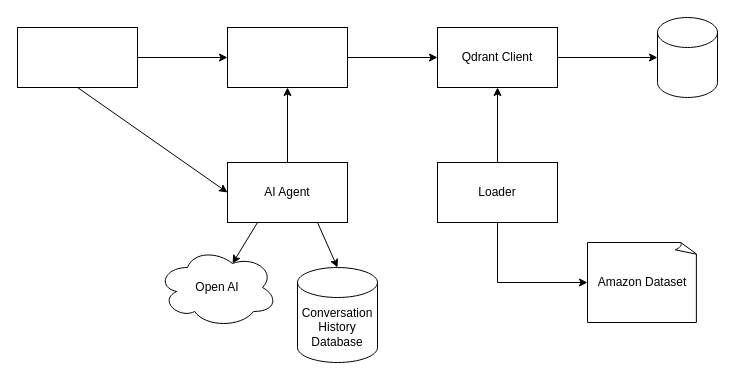
Image size: 735x380. Some labels were removed from this diagram. The centre of each missing label's shape, as x and y in pixels:
API: (x=287, y=57)
Qdrant Database: (x=687, y=57)
Web: (x=77, y=57)
